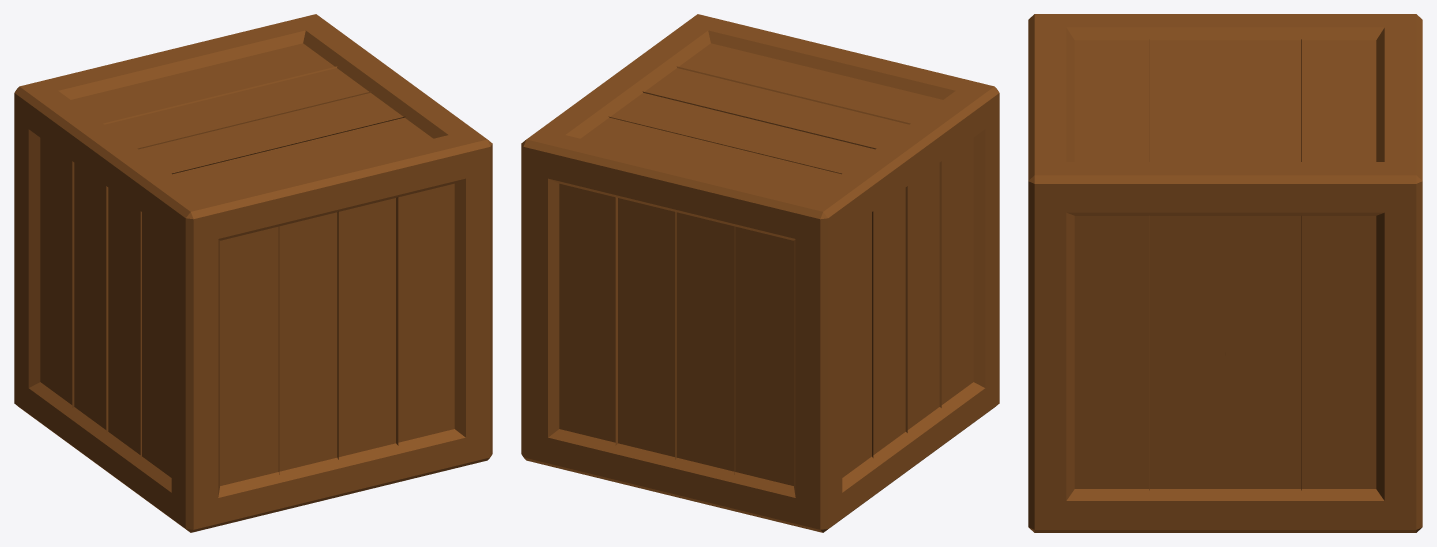
3 views of the same model, side by side, from view 1: azimuth 30°, elevation 25°; view 2: azimuth 150°, elevation 25°; view 3: azimuth 270°, elevation 25° (orthographic). The views are drawn at different scales.
Visible parts, largest first — view 1: Cube; view 2: Cube; view 3: Cube.
Part boxes in pixels (x1,y1,x2,y2): Cube: [14, 14, 492, 532]; Cube: [521, 14, 999, 532]; Cube: [1028, 14, 1422, 532].
Size of the model in its own units: 200 by 200 by 200.
